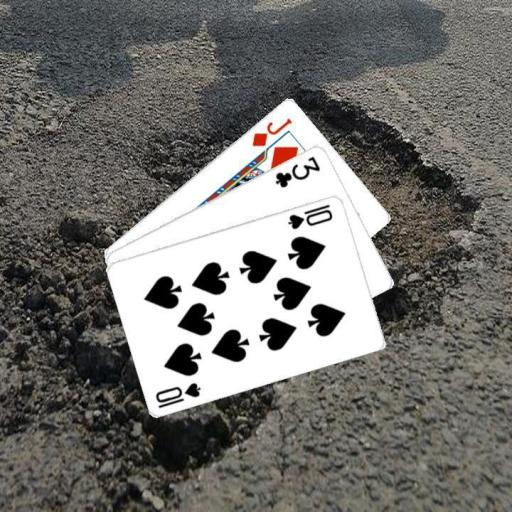card-corner: (272, 152, 322, 189), (248, 114, 294, 148), (152, 379, 203, 409), (284, 200, 334, 230)
